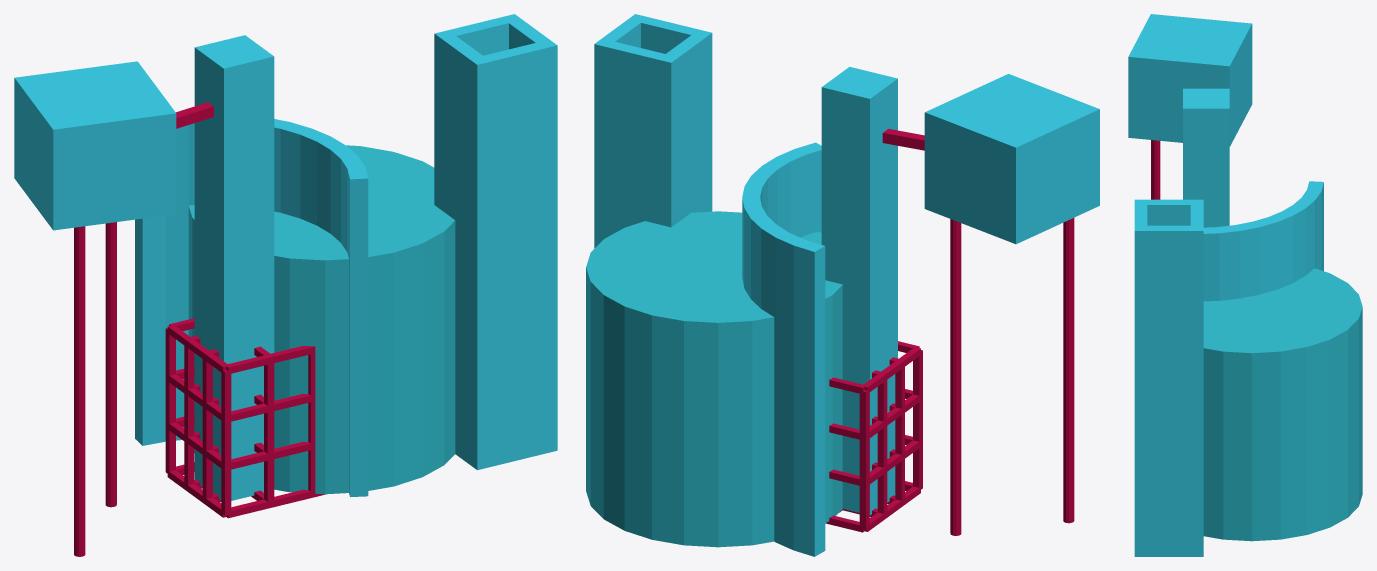
File: folie_tag_134.glb
The picture shows the model from 3 angles, left to right: view 1: azimuth 30°, elevation 25°; view 2: azimuth 150°, elevation 25°; view 3: azimuth 270°, elevation 25°; orthographic projection. The views are drawn at different scales.
Parts seen in each view (by area): view 1: folie_tag_134_03_tower, folie_tag_134_00_drum, folie_tag_134_core, folie_tag_134_02_curve, folie_tag_134_01_block, folie_tag_134_04_cage, folie_tag_134_line; view 2: folie_tag_134_00_drum, folie_tag_134_02_curve, folie_tag_134_core, folie_tag_134_03_tower, folie_tag_134_01_block, folie_tag_134_04_cage, folie_tag_134_line; view 3: folie_tag_134_00_drum, folie_tag_134_03_tower, folie_tag_134_01_block, folie_tag_134_02_curve, folie_tag_134_core, folie_tag_134_line.
Boxes of the visible parts, left/top/right/bottom form: folie_tag_134_03_tower: left=434, top=14, right=557, bottom=470; folie_tag_134_00_drum: left=188, top=145, right=455, bottom=494; folie_tag_134_core: left=194, top=35, right=274, bottom=500; folie_tag_134_02_curve: left=135, top=119, right=368, bottom=497; folie_tag_134_01_block: left=14, top=61, right=176, bottom=230; folie_tag_134_04_cage: left=165, top=318, right=325, bottom=518; folie_tag_134_line: left=74, top=102, right=213, bottom=556; folie_tag_134_00_drum: left=586, top=211, right=842, bottom=547; folie_tag_134_02_curve: left=742, top=142, right=825, bottom=556; folie_tag_134_core: left=821, top=66, right=897, bottom=515; folie_tag_134_03_tower: left=594, top=14, right=712, bottom=248; folie_tag_134_01_block: left=924, top=74, right=1099, bottom=244; folie_tag_134_04_cage: left=825, top=341, right=922, bottom=532; folie_tag_134_line: left=882, top=129, right=1074, bottom=535; folie_tag_134_00_drum: left=1203, top=268, right=1362, bottom=541; folie_tag_134_03_tower: left=1134, top=199, right=1203, bottom=556; folie_tag_134_01_block: left=1128, top=14, right=1252, bottom=146; folie_tag_134_02_curve: left=1203, top=181, right=1323, bottom=301; folie_tag_134_core: left=1183, top=88, right=1229, bottom=227; folie_tag_134_line: left=1151, top=140, right=1160, bottom=199.
Size of the model in its own units: 10.78 by 9.12 by 5.51.
